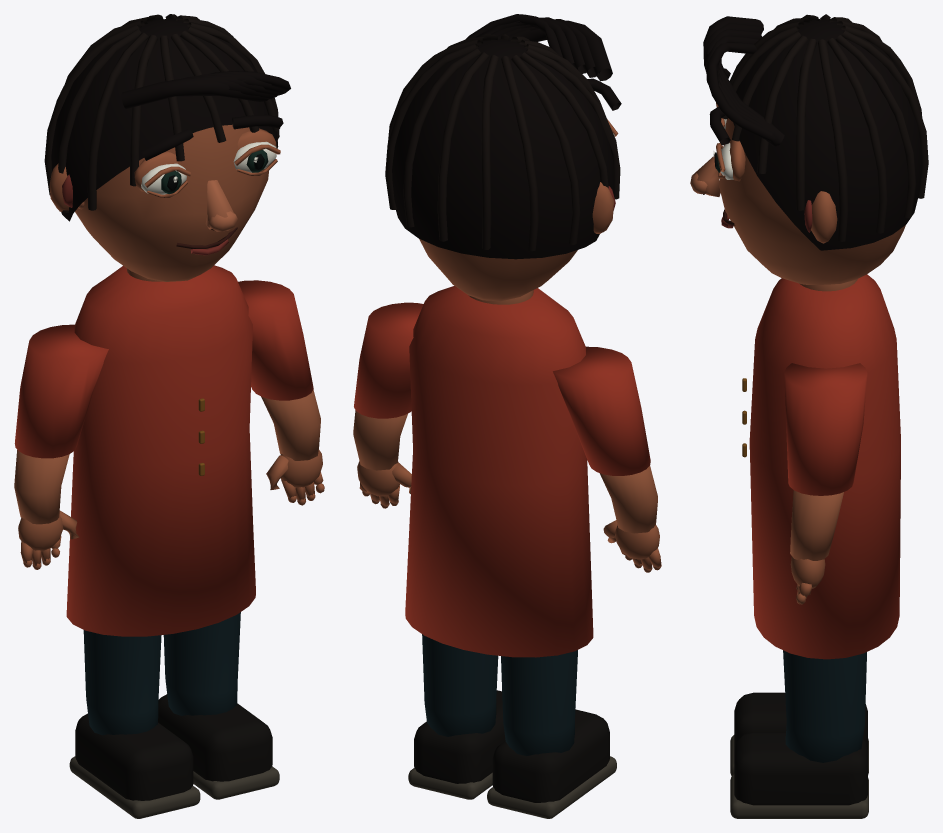
Rendered from patient-08.glb.
3 views of the same model, side by side, from view 1: azimuth 30°, elevation 25°; view 2: azimuth 150°, elevation 25°; view 3: azimuth 270°, elevation 25° (orthographic). The views are drawn at different scales.
Visible parts, largest first — view 1: Body, Head, LegL, ArmL, LegR, ArmR; view 2: Body, Head, LegL, ArmL, LegR, ArmR; view 3: Head, Body, LegR, ArmR, LegL.
Part boxes in pixels (x1,y1,x2,y2): Body: (66, 265, 255, 636); Head: (44, 14, 290, 281); LegL: (69, 630, 200, 818); ArmL: (14, 324, 108, 569); LegR: (158, 612, 279, 799); ArmR: (238, 280, 324, 505); Body: (405, 286, 593, 657); Head: (385, 14, 621, 301); LegL: (487, 650, 616, 818); ArmL: (553, 346, 661, 572); LegR: (408, 634, 505, 799); ArmR: (353, 302, 423, 508); Head: (690, 14, 928, 284); Body: (742, 274, 900, 659); LegR: (730, 650, 868, 818); ArmR: (784, 363, 867, 604); LegL: (730, 692, 868, 775).
Size of the model in its own units: 0.5566 by 1.32 by 0.3756.
